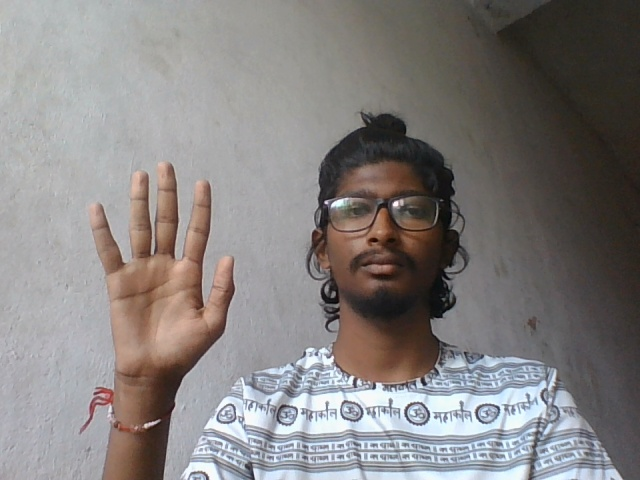Friend: (81, 153, 242, 393)
